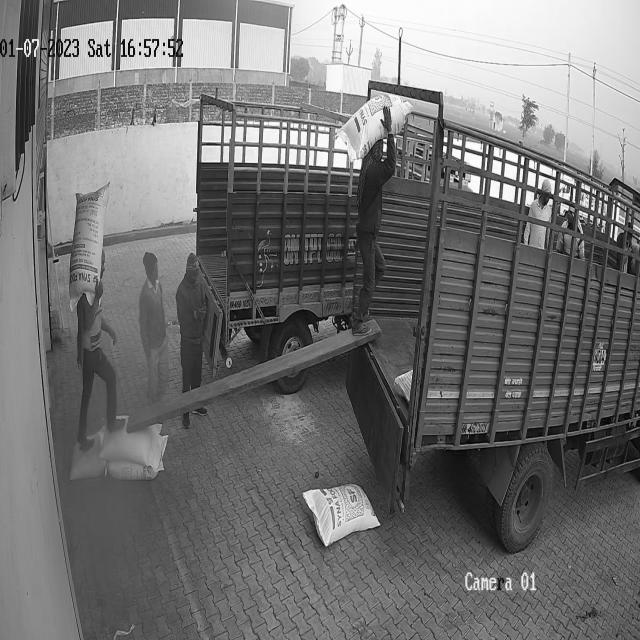sack: (337, 92, 412, 161), (69, 182, 108, 312), (303, 483, 380, 548), (97, 424, 161, 468), (106, 434, 168, 479), (69, 431, 107, 482)
